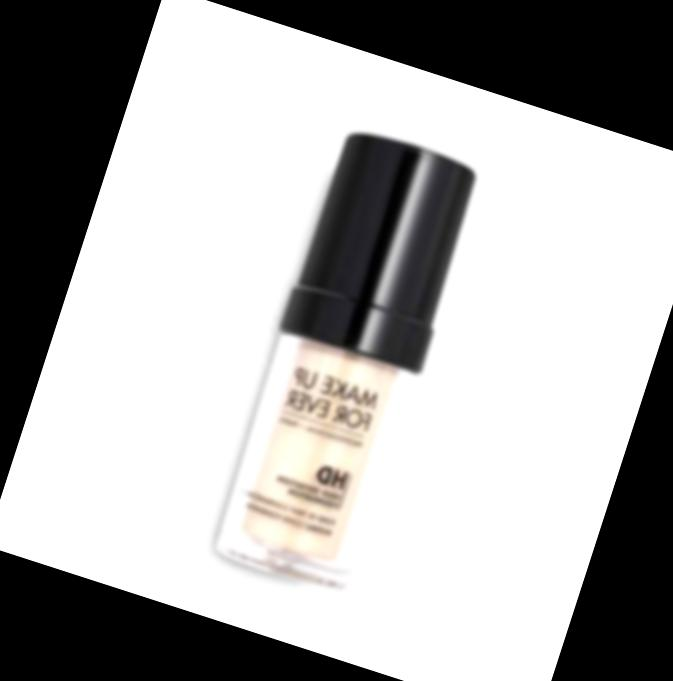cosmetic: (203, 122, 492, 600)
